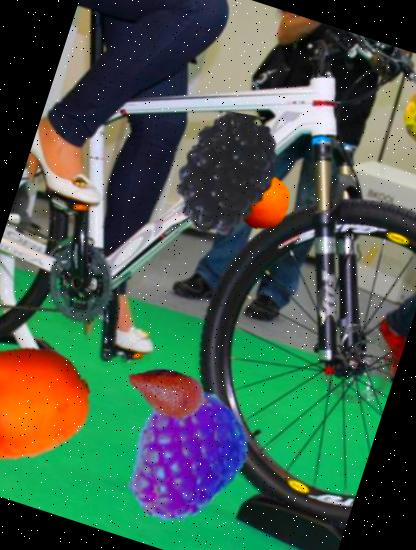Apricot: (0, 315, 106, 485)
Cactus: (394, 79, 416, 157)
Mulberry: (146, 95, 306, 254)
Orange: (228, 167, 296, 236)
Raspberry: (92, 367, 267, 542)
Salak: (113, 339, 220, 446)
